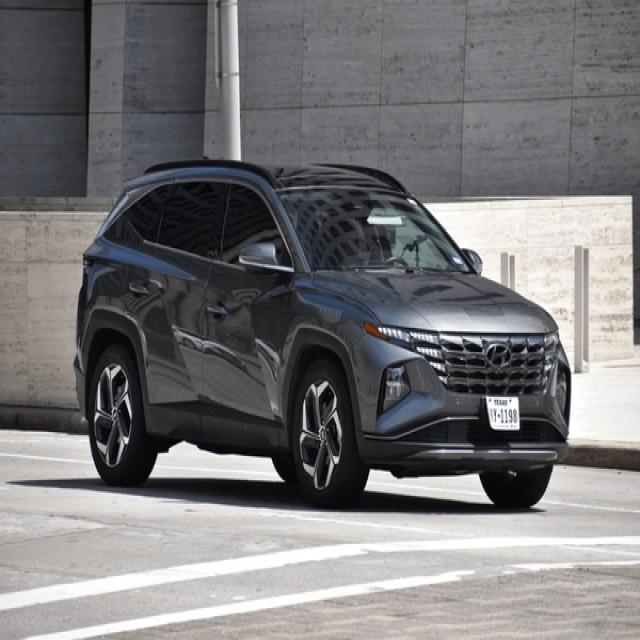hyundai: (487, 341, 510, 366)
